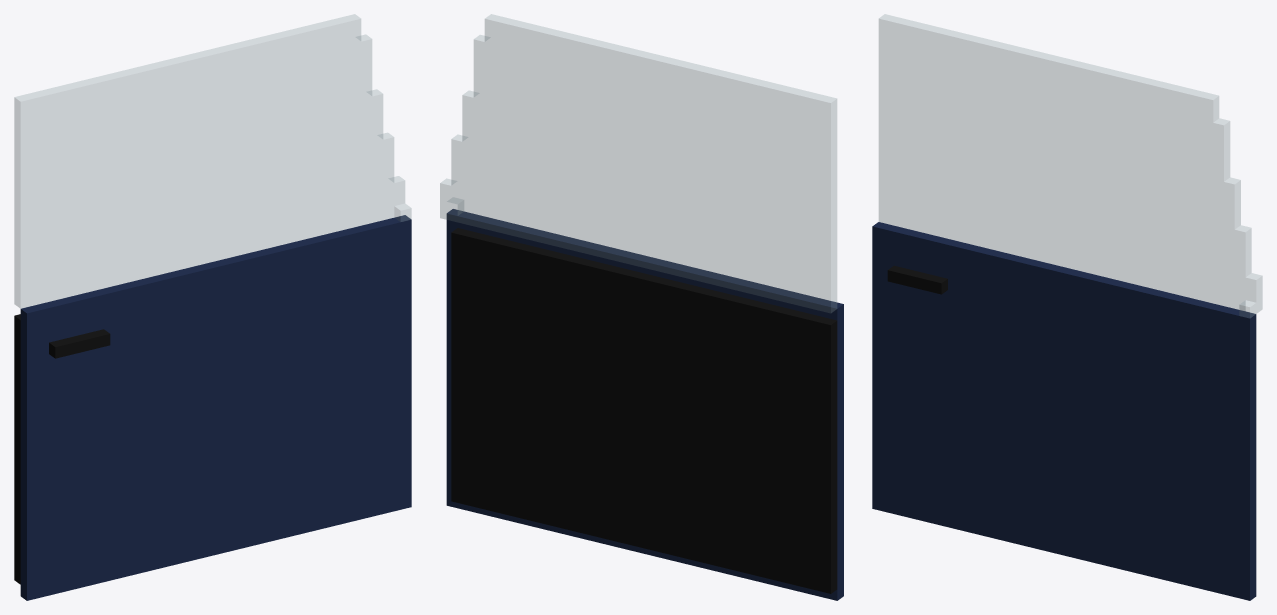
The model's file is swat_truck_door.glb.
The picture shows the model from 3 angles, left to right: view 1: azimuth 30°, elevation 25°; view 2: azimuth 150°, elevation 25°; view 3: azimuth 330°, elevation 25°; orthographic projection. The views are drawn at different scales.
Parts seen in each view (by area): view 1: body:compound; view 2: body:compound; view 3: body:compound.
Boxes of the visible parts, x1=… form: body:compound: x1=14, y1=14, x2=411, y2=600; body:compound: x1=440, y1=14, x2=843, y2=600; body:compound: x1=872, y1=14, x2=1262, y2=600.
Bounding box in the file's own units: 1.09 × 1.34 × 0.0938.
